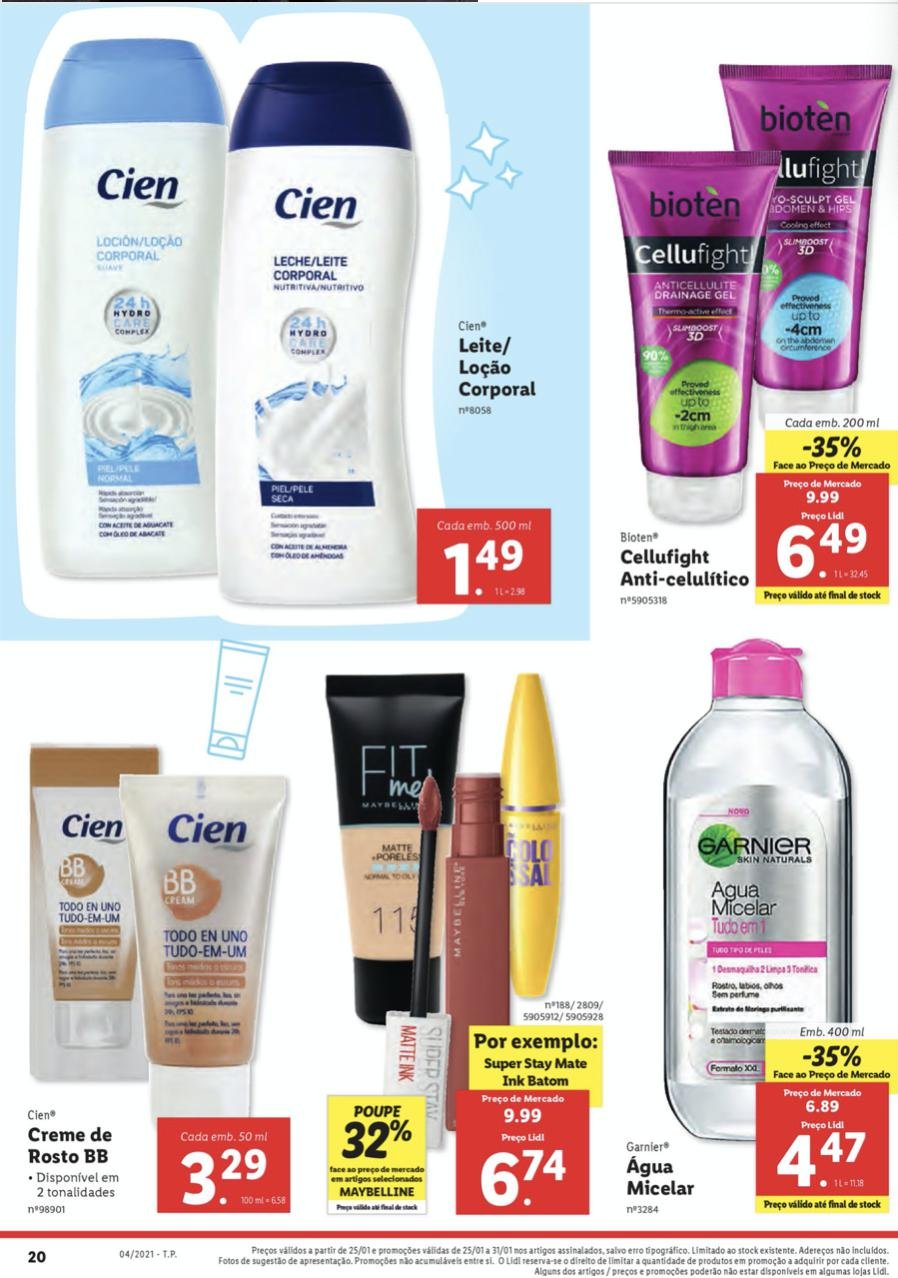name: (455, 333, 547, 411), (618, 544, 750, 592), (25, 1127, 118, 1165), (625, 1155, 699, 1200)
price: (769, 516, 877, 584), (429, 540, 544, 603), (475, 1141, 574, 1211), (772, 1127, 869, 1194), (180, 1146, 271, 1208)
product: (7, 8, 574, 640), (587, 24, 898, 616), (302, 659, 615, 1225), (615, 632, 890, 1225), (14, 659, 302, 1219)
promotion: (336, 1116, 417, 1160), (796, 1041, 869, 1070), (801, 435, 867, 467)
